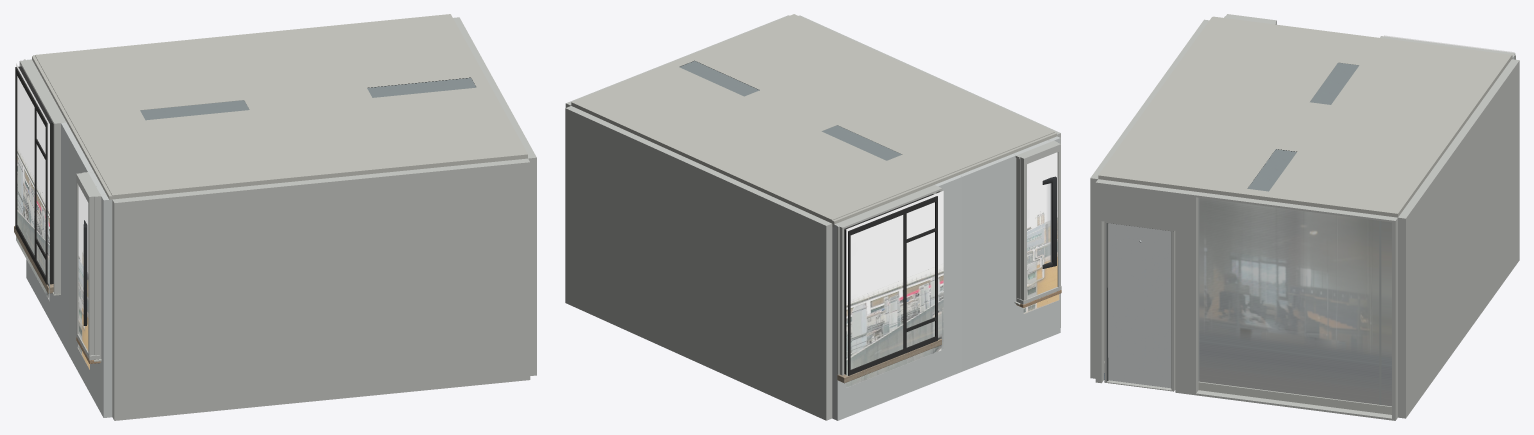
File: atrium.glb
The picture shows the model from 3 angles, left to right: view 1: azimuth 30°, elevation 25°; view 2: azimuth 150°, elevation 25°; view 3: azimuth 270°, elevation 25°; orthographic projection. The views are drawn at different scales.
Parts seen in each view (by area): view 1: Wall1, Ceiling0, Wall6, Window_Frame, Wall5, Frame_Window1 exterior view, Wall2, Frame_Window1 sky, window_frame, Frame_Window0 exterior view, Frame_Window1 plaster jamb return, Frame_Window0 plain plaster jamb (+5 smaller); view 2: Wall0, Ceiling0, Wall6, Wall5, Frame_Window1 exterior view, Frame_Window1 sky, Window_Frame, Frame_Window0 exterior view, window_frame, Window wall ceiling perimeter beam, Luminaire housing, Luminaire housing.001 (+5 smaller); view 3: Ceiling0, Partition glazing, Office behind partition, Wall0, Wall2, Door_Leaf, Wall1, Door_Frame, Wall2_skirting, Luminaire housing.001, Luminaire housing, Partition left jamb.
Part boxes in pixels (x1=…): Wall1: x1=112, y1=158, x2=530, y2=420; Ceiling0: x1=35, y1=14, x2=527, y2=197; Wall6: x1=69, y1=137, x2=112, y2=417; Window_Frame: x1=14, y1=59, x2=53, y2=293; Wall5: x1=26, y1=59, x2=74, y2=355; Frame_Window1 exterior view: x1=16, y1=147, x2=49, y2=301; Wall2: x1=453, y1=17, x2=536, y2=375; Frame_Window1 sky: x1=16, y1=63, x2=49, y2=204; window_frame: x1=76, y1=172, x2=100, y2=363; Frame_Window0 exterior view: x1=77, y1=186, x2=89, y2=369; Frame_Window1 plaster jamb return: x1=53, y1=122, x2=66, y2=294; Frame_Window0 plain plaster jamb: x1=94, y1=194, x2=105, y2=359; Wall0: x1=565, y1=106, x2=832, y2=420; Ceiling0: x1=571, y1=14, x2=1054, y2=223; Wall6: x1=959, y1=136, x2=1060, y2=371; Wall5: x1=832, y1=175, x2=961, y2=420; Frame_Window1 exterior view: x1=846, y1=263, x2=943, y2=387; Frame_Window1 sky: x1=846, y1=191, x2=943, y2=301; Window_Frame: x1=837, y1=192, x2=941, y2=383; Frame_Window0 exterior view: x1=1023, y1=152, x2=1059, y2=313; window_frame: x1=1016, y1=141, x2=1061, y2=307; Window wall ceiling perimeter beam: x1=826, y1=132, x2=1056, y2=227; Luminaire housing: x1=822, y1=125, x2=901, y2=160; Luminaire housing.001: x1=679, y1=61, x2=759, y2=96; Ceiling0: x1=1098, y1=17, x2=1511, y2=217; Partition glazing: x1=1199, y1=198, x2=1391, y2=406; Office behind partition: x1=1199, y1=198, x2=1391, y2=406; Wall0: x1=1398, y1=59, x2=1519, y2=418; Wall2: x1=1095, y1=179, x2=1397, y2=420; Door_Leaf: x1=1108, y1=223, x2=1171, y2=388; Wall1: x1=1090, y1=19, x2=1209, y2=378; Door_Frame: x1=1104, y1=221, x2=1175, y2=391; Wall2_skirting: x1=1198, y1=381, x2=1391, y2=414; Luminaire housing.001: x1=1247, y1=149, x2=1296, y2=191; Luminaire housing: x1=1310, y1=62, x2=1359, y2=104; Partition left jamb: x1=1379, y1=221, x2=1381, y2=404.
Size of the model in its own units: 5.89 by 2.7 by 5.16.
170 materials, 102 textured.
